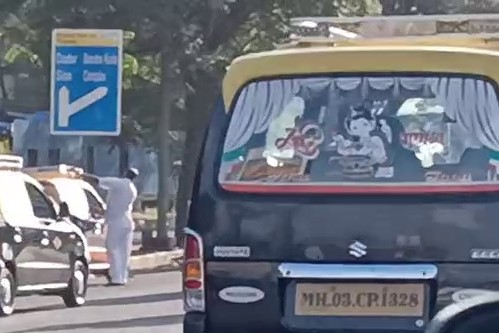MH03CP1328: (295, 281, 424, 316)
